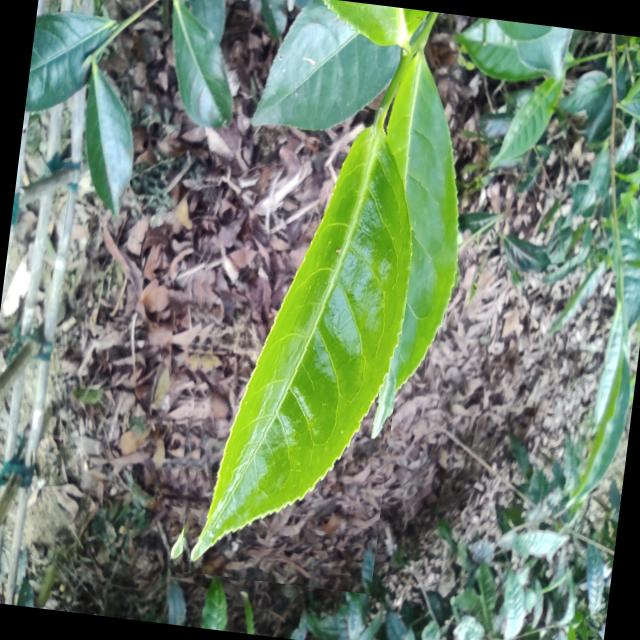Category D(7+ days, Not for Tea): (158, 99, 426, 594)
